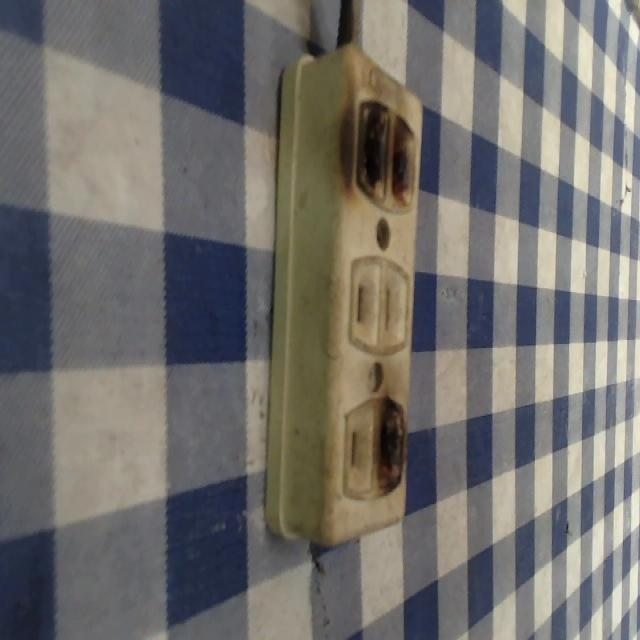-: (337, 82, 422, 214), (371, 388, 404, 495)
